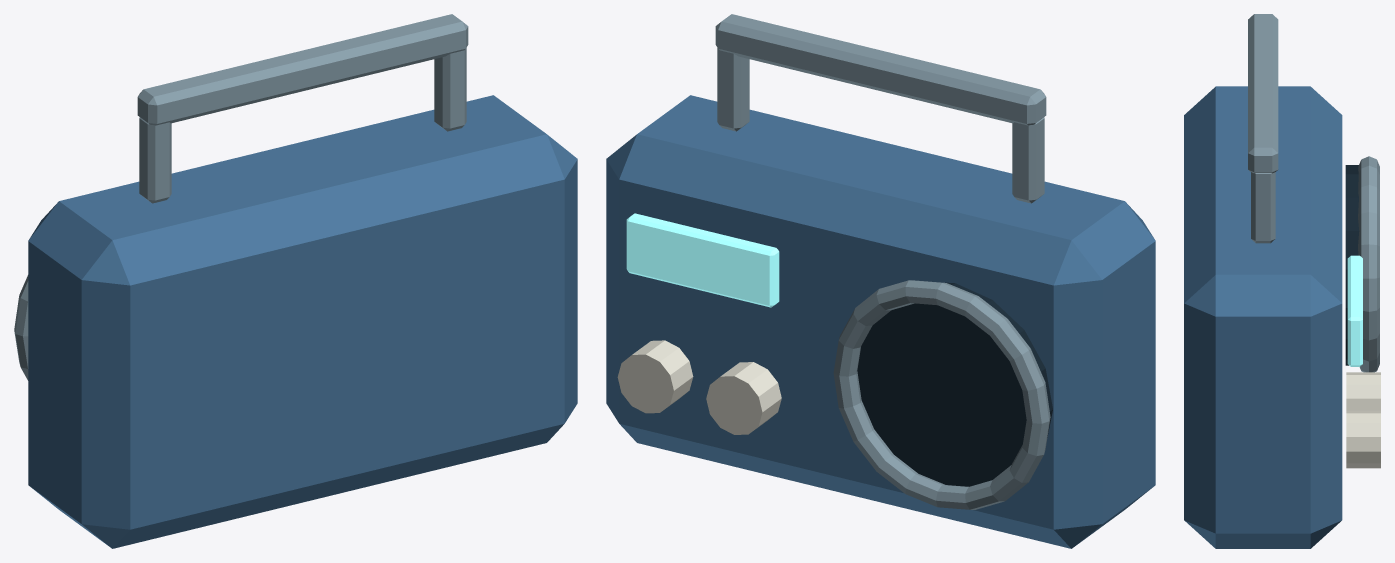
Rendered from portable_beach_radio.glb.
3 renders of one model, left to right at view 1: azimuth 30°, elevation 25°; view 2: azimuth 150°, elevation 25°; view 3: azimuth 270°, elevation 25°, orthographic. The views are drawn at different scales.
Visible parts, largest first — view 1: radio_body, radio_handle, radio_handle_stem (×2), speaker_ring; view 2: radio_body, radio_speaker, speaker_ring, radio_handle, radio_display, radio_knob (×2), radio_handle_stem (×2); view 3: radio_body, radio_handle, speaker_ring, radio_knob (×2), radio_display, radio_handle_stem, radio_speaker.
Boxes of the visible parts, x1=… form: radio_body: x1=28, y1=95, x2=577, y2=548; radio_handle: x1=137, y1=14, x2=468, y2=125; radio_handle_stem (×2): x1=139, y1=48, x2=466, y2=203; speaker_ring: x1=14, y1=275, x2=28, y2=380; radio_body: x1=606, y1=95, x2=1155, y2=548; radio_speaker: x1=857, y1=282, x2=1052, y2=486; speaker_ring: x1=833, y1=280, x2=1050, y2=509; radio_handle: x1=715, y1=14, x2=1046, y2=125; radio_display: x1=626, y1=213, x2=779, y2=307; radio_knob (×2): x1=617, y1=340, x2=781, y2=434; radio_handle_stem (×2): x1=717, y1=48, x2=1044, y2=203; radio_body: x1=1184, y1=86, x2=1342, y2=548; radio_handle: x1=1248, y1=14, x2=1278, y2=173; speaker_ring: x1=1358, y1=156, x2=1379, y2=372; radio_knob (×2): x1=1346, y1=372, x2=1380, y2=468; radio_display: x1=1347, y1=255, x2=1362, y2=366; radio_handle_stem: x1=1251, y1=172, x2=1275, y2=243; radio_speaker: x1=1345, y1=165, x2=1359, y2=365.
Size of the model in its own units: 0.37 by 0.3 by 0.143.
